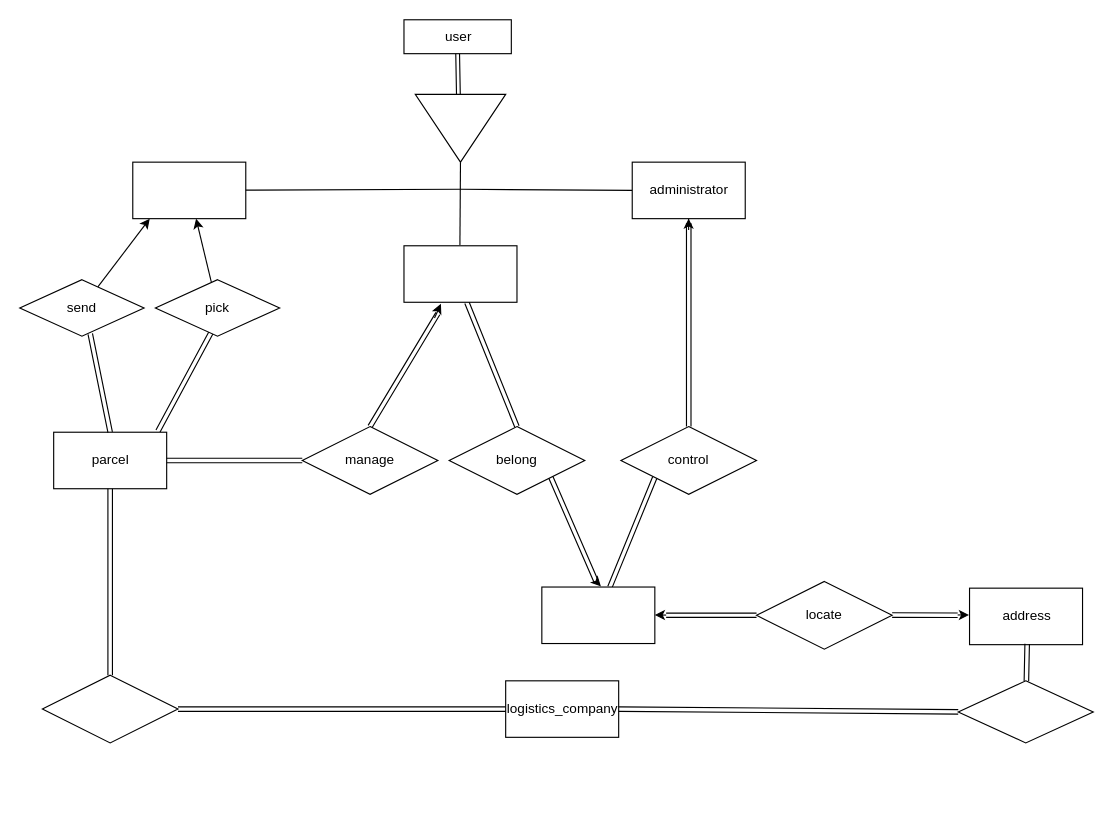
Image size: 1113x840. Some labels were removed from this diagram. Each missing label, with the box of its shape:
carry: (41, 674, 178, 743)
courier_station: (541, 586, 655, 644)
customer: (132, 161, 246, 219)
delivery_manager: (403, 245, 517, 302)
ISA: (414, 93, 506, 162)
transfer: (957, 680, 1093, 743)
